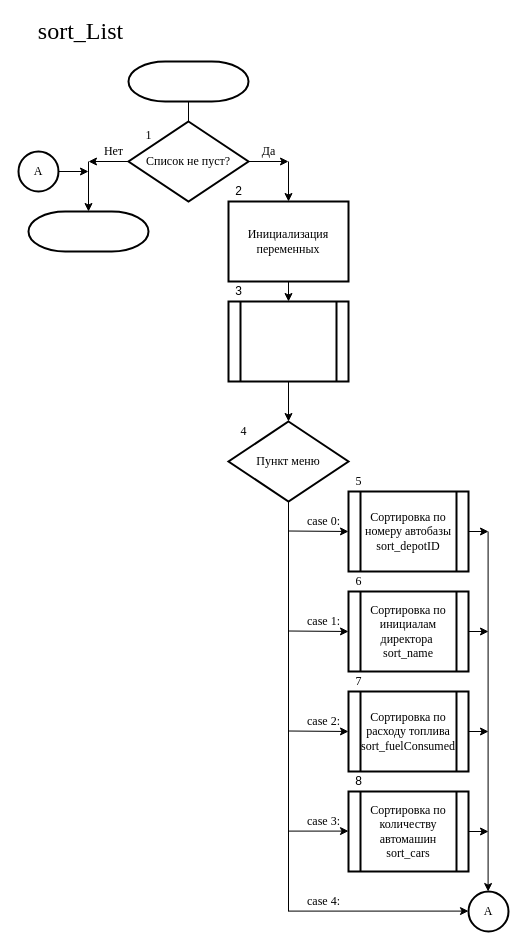
Image size: 526x950. Some labels were removed from this diagram. Each missing label, with the centre of its shape:
sort_List Конец: [88,231]
sort_List Начало: [188,81]
Выбор пункта меню menuItem: [288,341]
